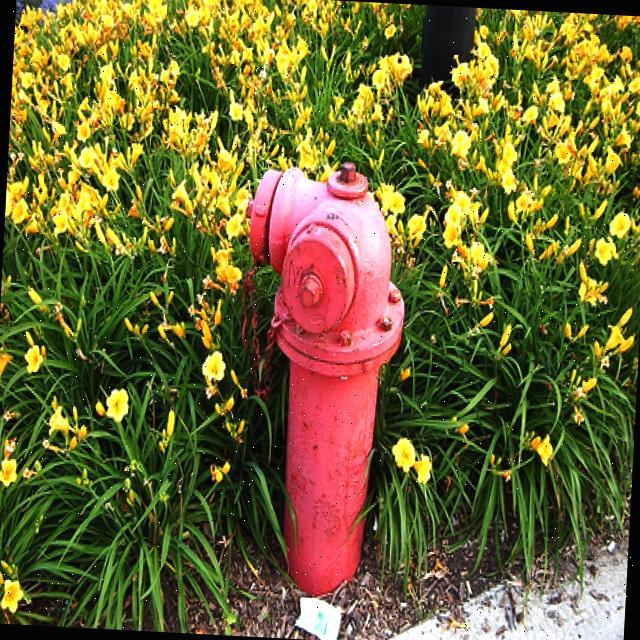fire_hydrant: (228, 150, 414, 598)
